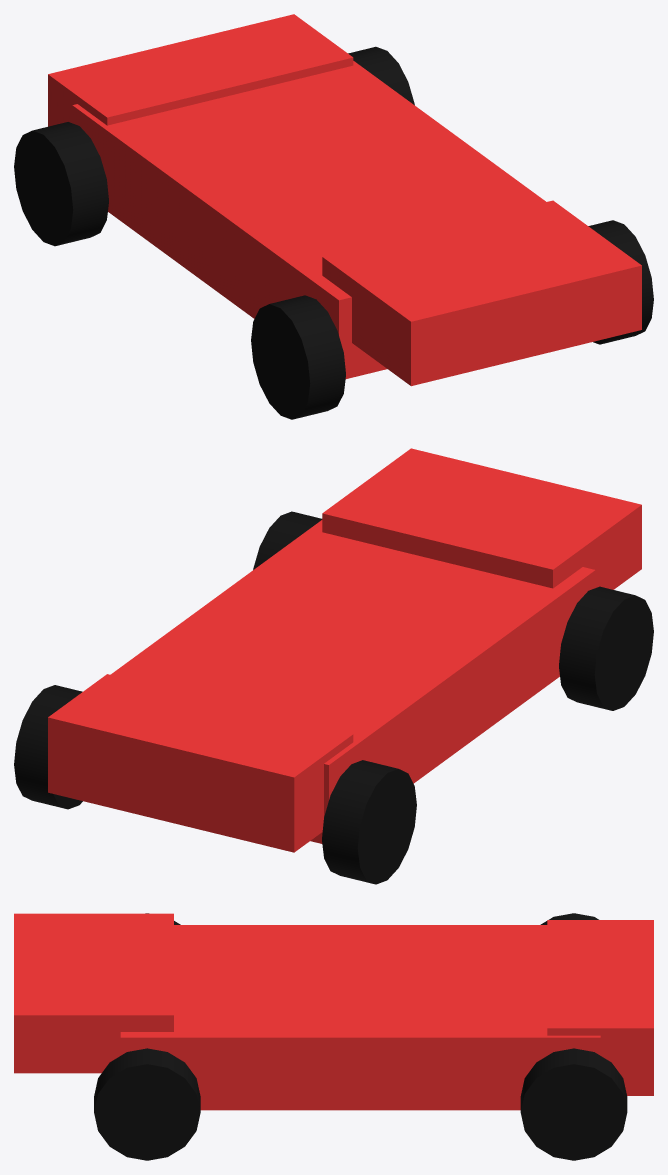
The model's file is dominus.glb.
3 renders of one model, top to bottom at view 1: azimuth 30°, elevation 25°; view 2: azimuth 150°, elevation 25°; view 3: azimuth 270°, elevation 25°, orthographic. The views are drawn at different scales.
Bounding box in the file's own units: 67 × 25 × 120.
